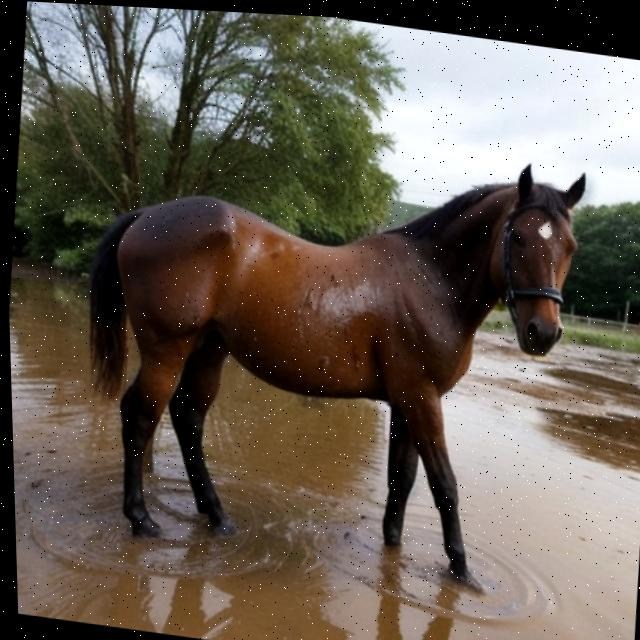horse: (65, 74, 616, 611)
